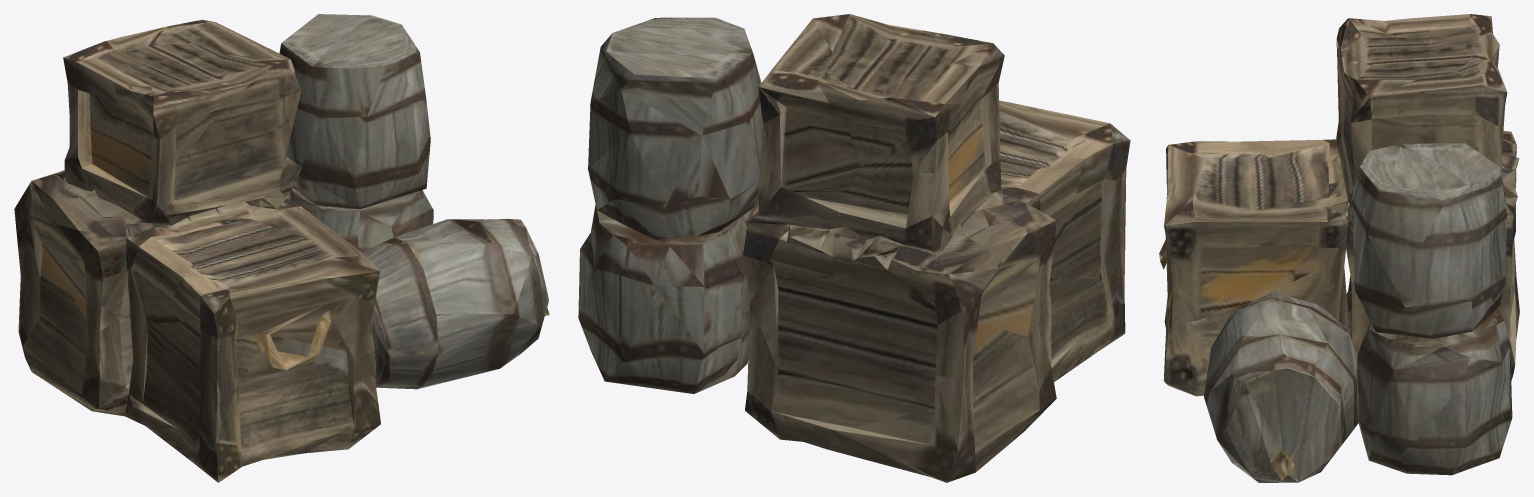
File: barrels_c_lod.glb
3 views of the same model, side by side, from view 1: azimuth 30°, elevation 25°; view 2: azimuth 150°, elevation 25°; view 3: azimuth 270°, elevation 25° (orthographic). The views are drawn at different scales.
Visible parts, largest first — view 1: mesh_node; view 2: mesh_node; view 3: mesh_node.
Boxes of the visible parts, x1,y1,x2,y2 form: mesh_node: (14,14,549,482); mesh_node: (578,14,1130,482); mesh_node: (1159,14,1519,482).
Size of the model in its own units: 1.85 by 1.33 by 1.36.
Materials: 1 (1 with a texture image).
